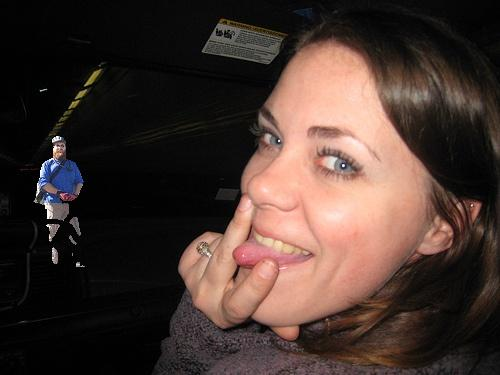tampered: (34, 137, 88, 267)
